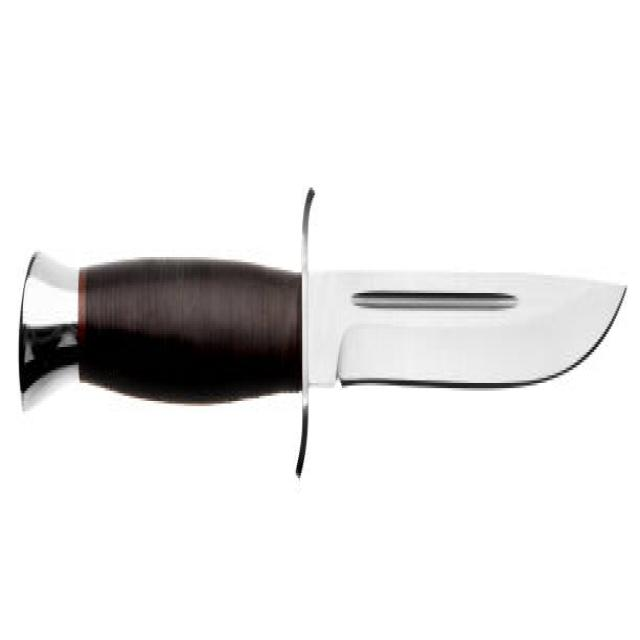knife: (14, 173, 631, 498)
